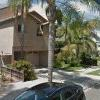Palm tree: (33, 2, 96, 77)
